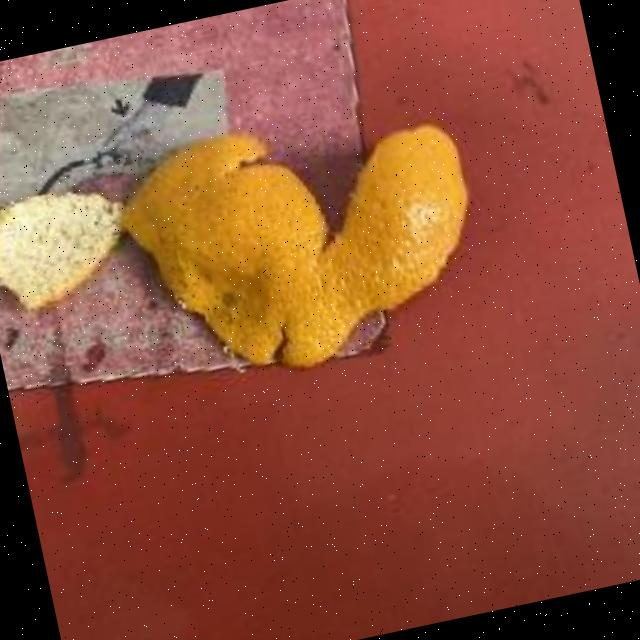orange-peel: (102, 81, 500, 401)
